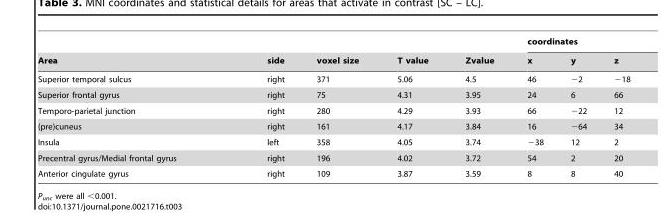table: (37, 36, 629, 177)
table column: (37, 36, 221, 177), (221, 36, 299, 177), (299, 36, 377, 177), (377, 36, 446, 177), (446, 36, 509, 177), (509, 36, 556, 177), (556, 36, 599, 177), (599, 36, 629, 177)
table column header: (37, 36, 629, 69)
table row: (37, 50, 629, 69), (37, 69, 629, 86), (37, 86, 629, 102), (37, 102, 629, 118), (37, 118, 629, 134), (37, 149, 629, 165), (37, 134, 629, 149), (37, 36, 629, 50), (37, 165, 629, 177)
table spanning cell: (37, 36, 221, 69), (221, 36, 299, 69), (299, 36, 377, 69), (377, 36, 446, 69), (446, 36, 509, 69), (509, 36, 629, 50)
